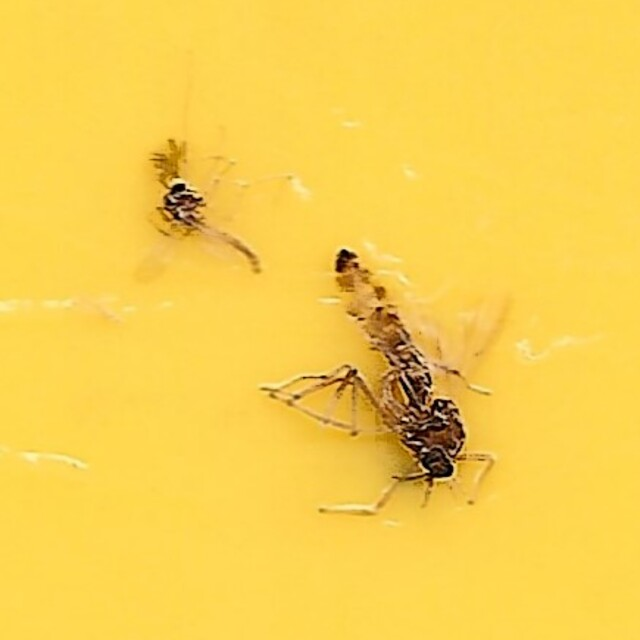Nematocera: (262, 244, 493, 503), (147, 137, 269, 288)
